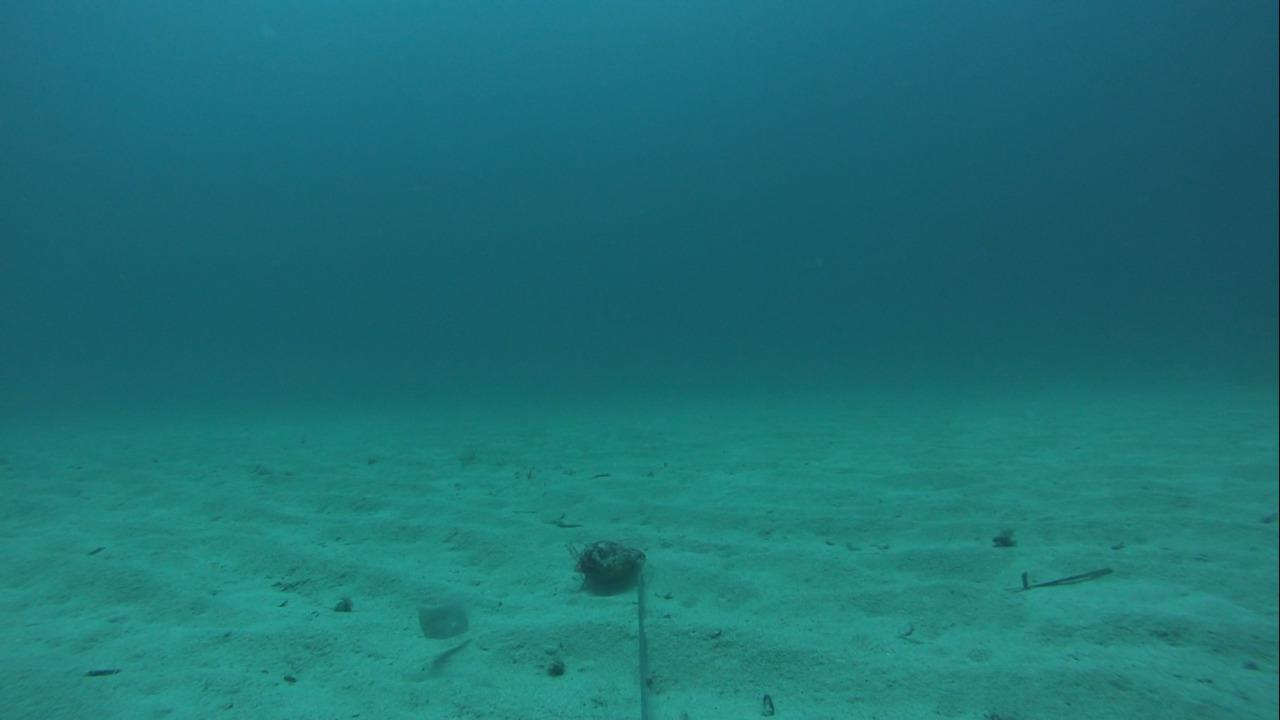raor: (399, 592, 475, 649)
